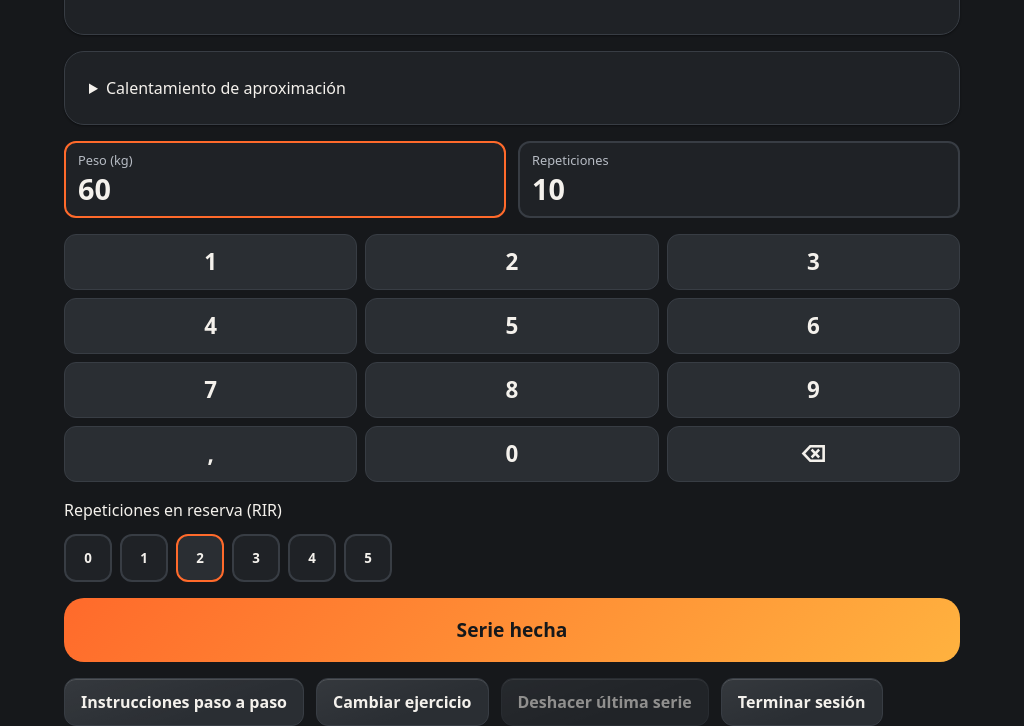
Scenario: SessionPlayer › deshacer encola un set_delete
(page scrolled)
Click the button "Serie hecha" at [512, 630], box [64,598,960,662]
(page scrolled)
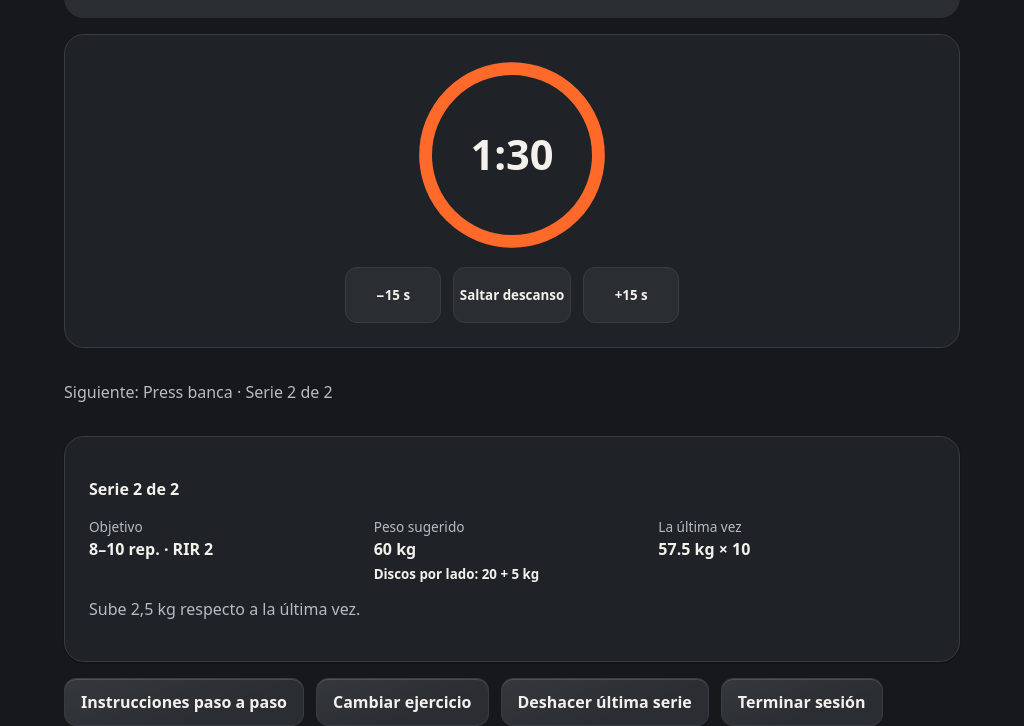
Click the button "Deshacer última serie" at [605, 702], box [500,678,709,725]
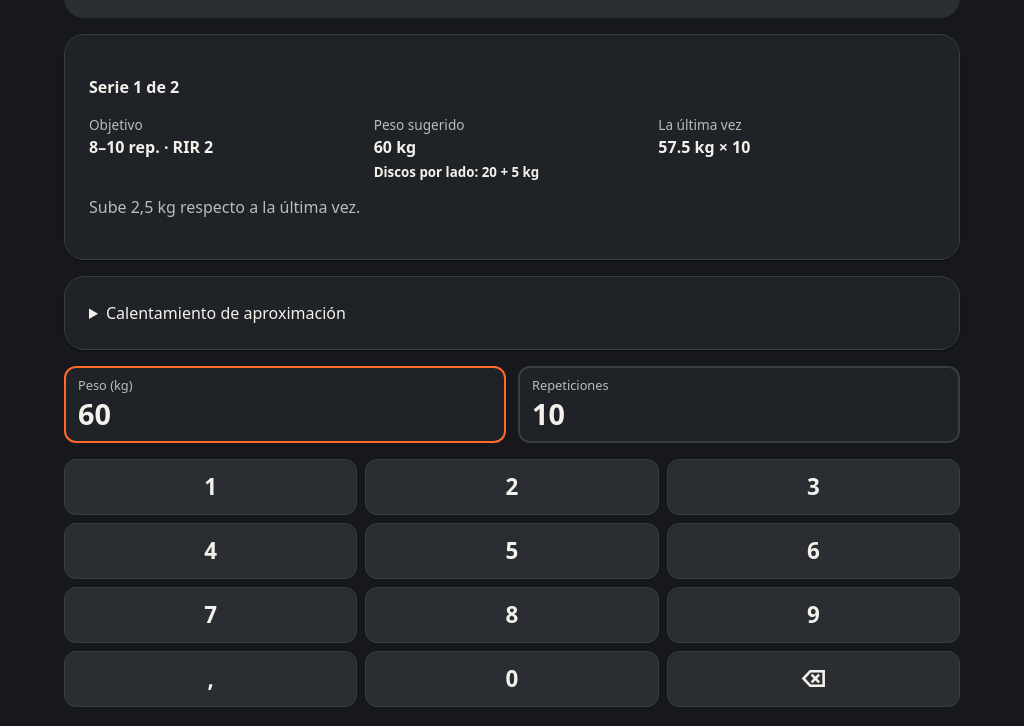
Now the text "Serie 1 de 2" is shown, box [89,76,179,98]
